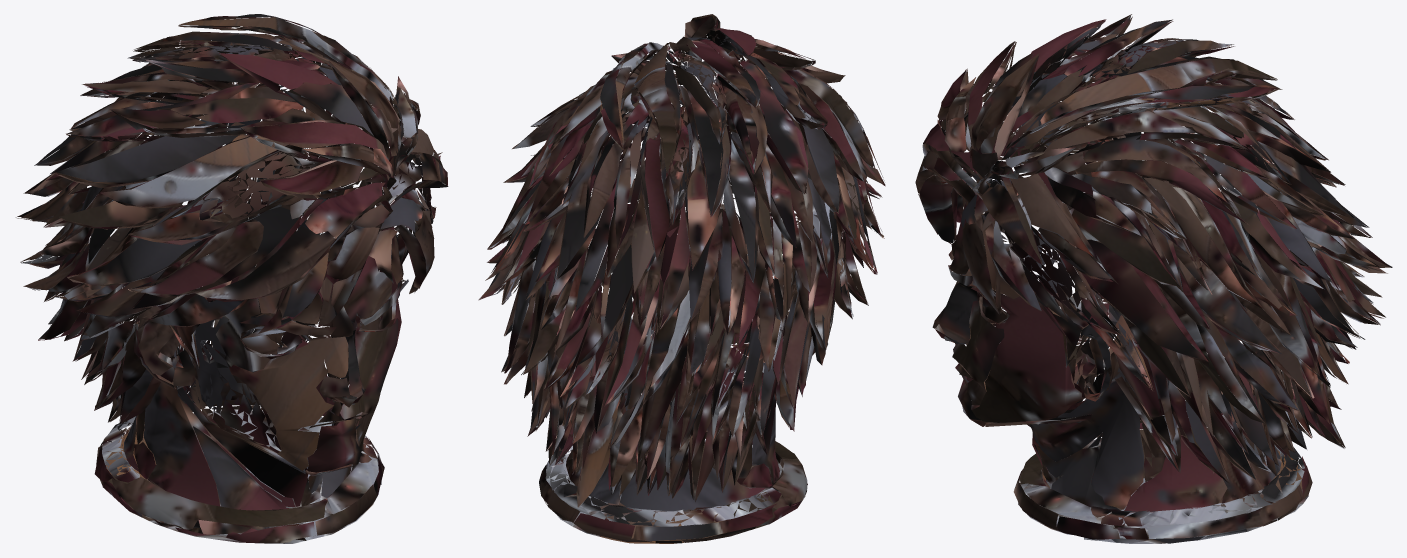
Rendered from VidaExtra.fbx.
3 views of the same model, side by side, from view 1: azimuth 30°, elevation 25°; view 2: azimuth 150°, elevation 25°; view 3: azimuth 270°, elevation 25° (orthographic). The views are drawn at different scales.
Parts seen in each view (by area): view 1: VidaExtra; view 2: VidaExtra; view 3: VidaExtra.
Boxes of the visible parts, x1,y1,x2,y2 form: VidaExtra: (15, 14, 448, 543); VidaExtra: (478, 14, 885, 543); VidaExtra: (915, 14, 1392, 543).
Size of the model in its own units: 88.73 by 105 by 100.
